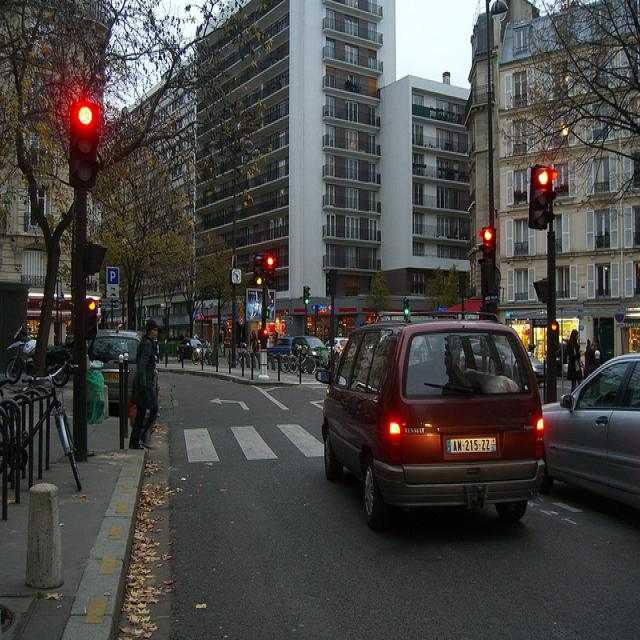motor: (4, 326, 71, 390)
